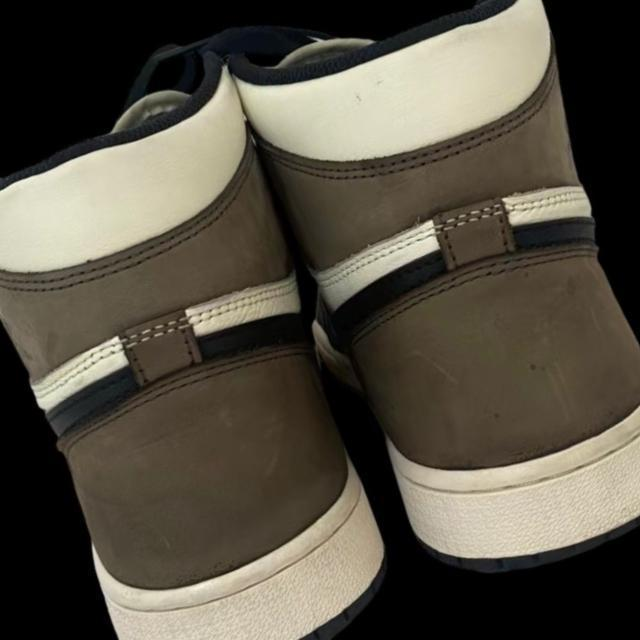nike original jordan 1: (209, 0, 640, 616), (0, 34, 432, 640)
